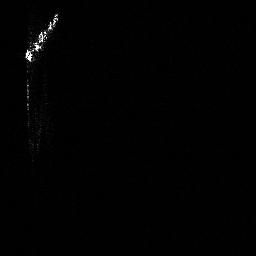ship: (23, 10, 60, 64)
